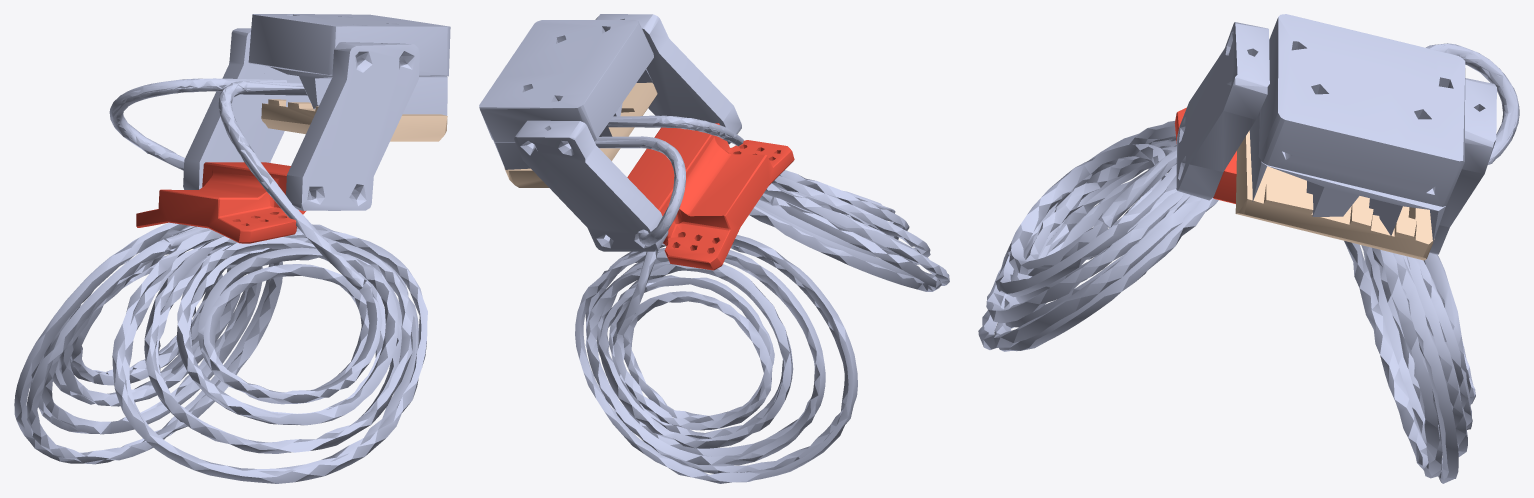
The model's file is extrah7.FBX.
The picture shows the model from 3 angles, left to right: view 1: azimuth 30°, elevation 25°; view 2: azimuth 150°, elevation 25°; view 3: azimuth 270°, elevation 25°; orthographic projection. The views are drawn at different scales.
Visible parts, largest first — view 1: VIFS008, VIFS003, VIFS005, VIFS004, VIFS001, VIFS006, VIFS002, VIFS009, VIFS012, VIFS011, VIFS010; view 2: VIFS008, VIFS005, VIFS004, VIFS001, VIFS003, VIFS012, VIFS002, VIFS011, VIFS006, VIFS010, VIFS009; view 3: VIFS008, VIFS005, VIFS003, VIFS002, VIFS001, VIFS006, VIFS012, VIFS009, VIFS004.
Boxes of the visible parts, box(x1,y1,x2,y2) form: VIFS008: box(14, 222, 427, 483); VIFS003: box(286, 42, 419, 210); VIFS005: box(248, 14, 450, 76); VIFS004: box(136, 162, 305, 243); VIFS001: box(183, 28, 284, 189); VIFS006: box(263, 66, 447, 115); VIFS002: box(261, 99, 447, 141); VIFS009: box(219, 81, 366, 289); VIFS012: box(109, 78, 286, 154); VIFS011: box(218, 81, 307, 196); VIFS010: box(112, 78, 286, 249); VIFS008: box(575, 170, 949, 483); VIFS005: box(479, 20, 653, 142); VIFS004: box(627, 123, 794, 270); VIFS001: box(514, 120, 668, 251); VIFS003: box(595, 14, 741, 144); VIFS012: box(595, 136, 685, 246); VIFS002: box(504, 82, 657, 187); VIFS011: box(608, 115, 737, 143); VIFS006: box(494, 69, 652, 169); VIFS010: box(595, 137, 738, 250); VIFS009: box(607, 116, 743, 146); VIFS008: box(978, 121, 1475, 483); VIFS005: box(1258, 14, 1465, 206); VIFS003: box(1176, 22, 1269, 200); VIFS002: box(1235, 130, 1434, 260); VIFS001: box(1429, 78, 1496, 254); VIFS006: box(1249, 111, 1445, 242); VIFS012: box(1426, 43, 1519, 164); VIFS009: box(1098, 148, 1176, 227); VIFS004: box(1174, 107, 1236, 203).
Bounding box in the file's own units: 0.182 × 0.1924 × 0.176.
